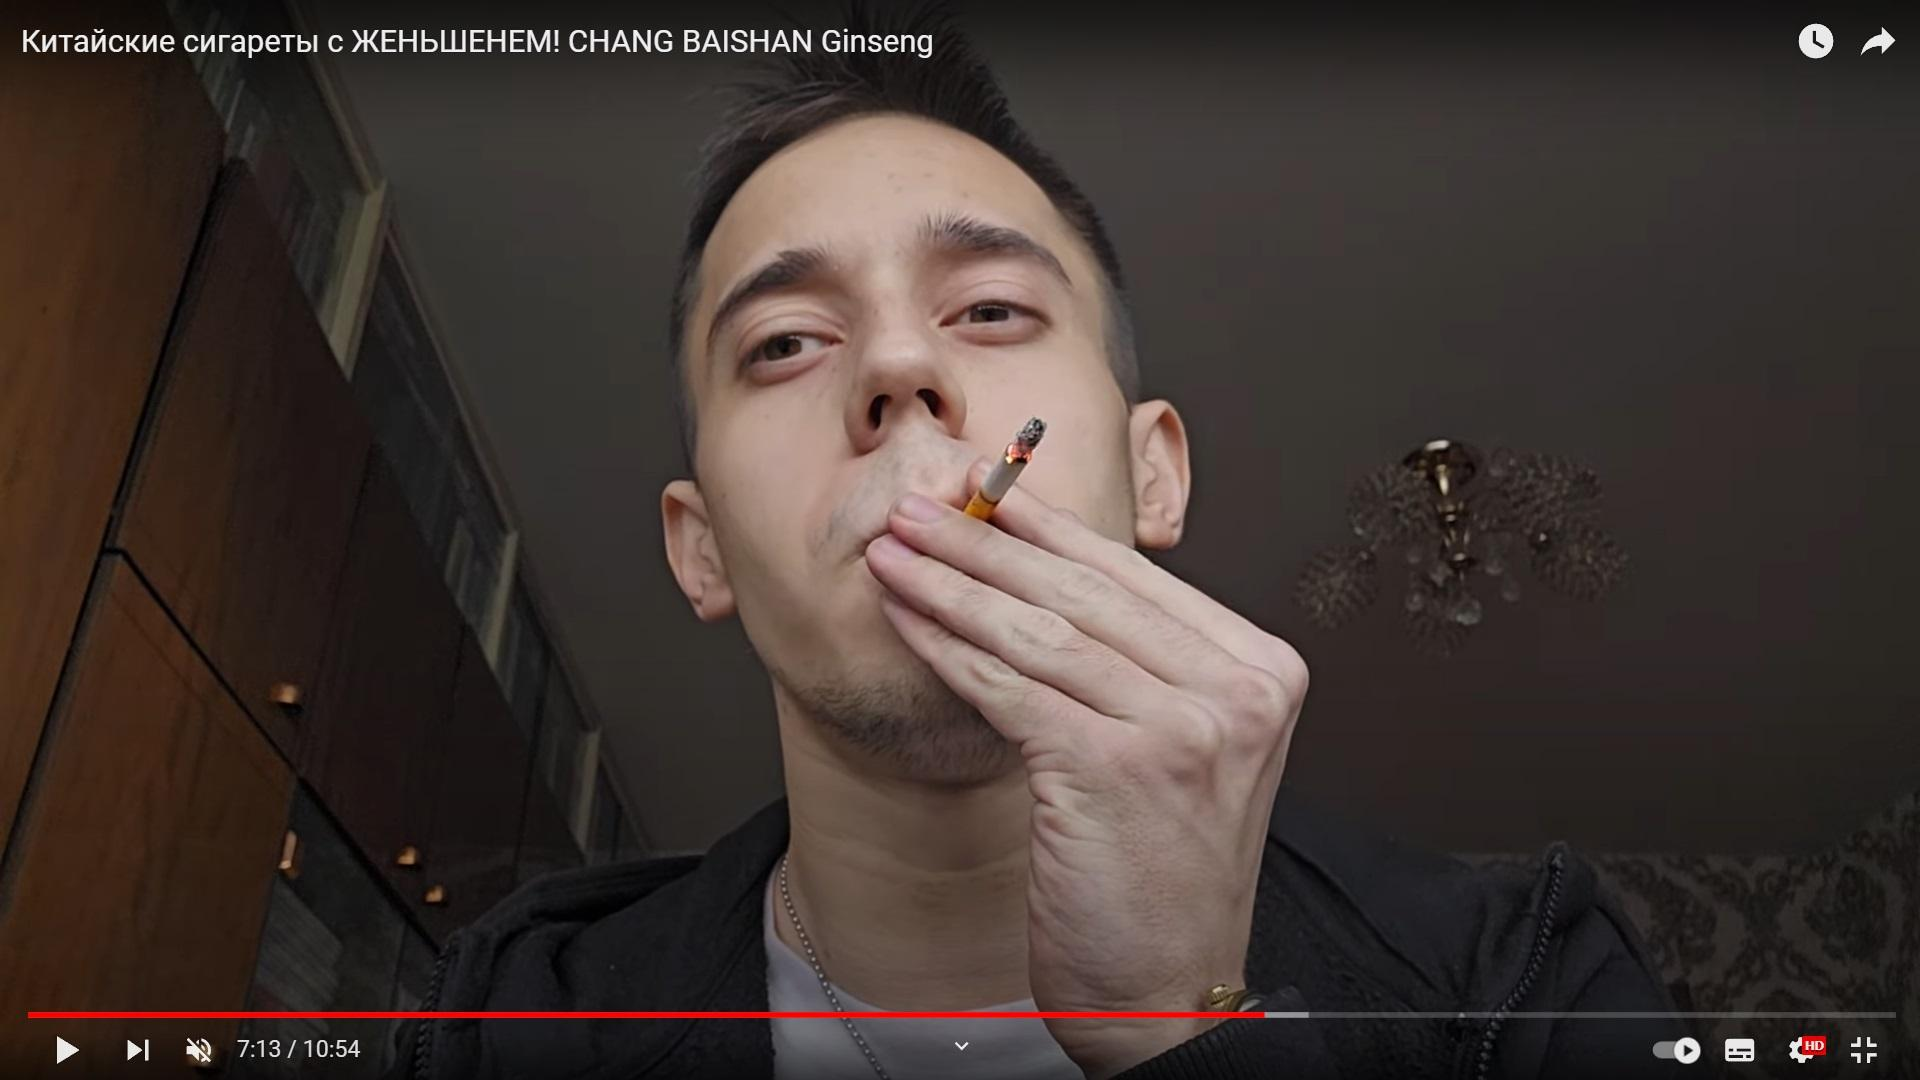cigarette: (963, 415, 1048, 522)
